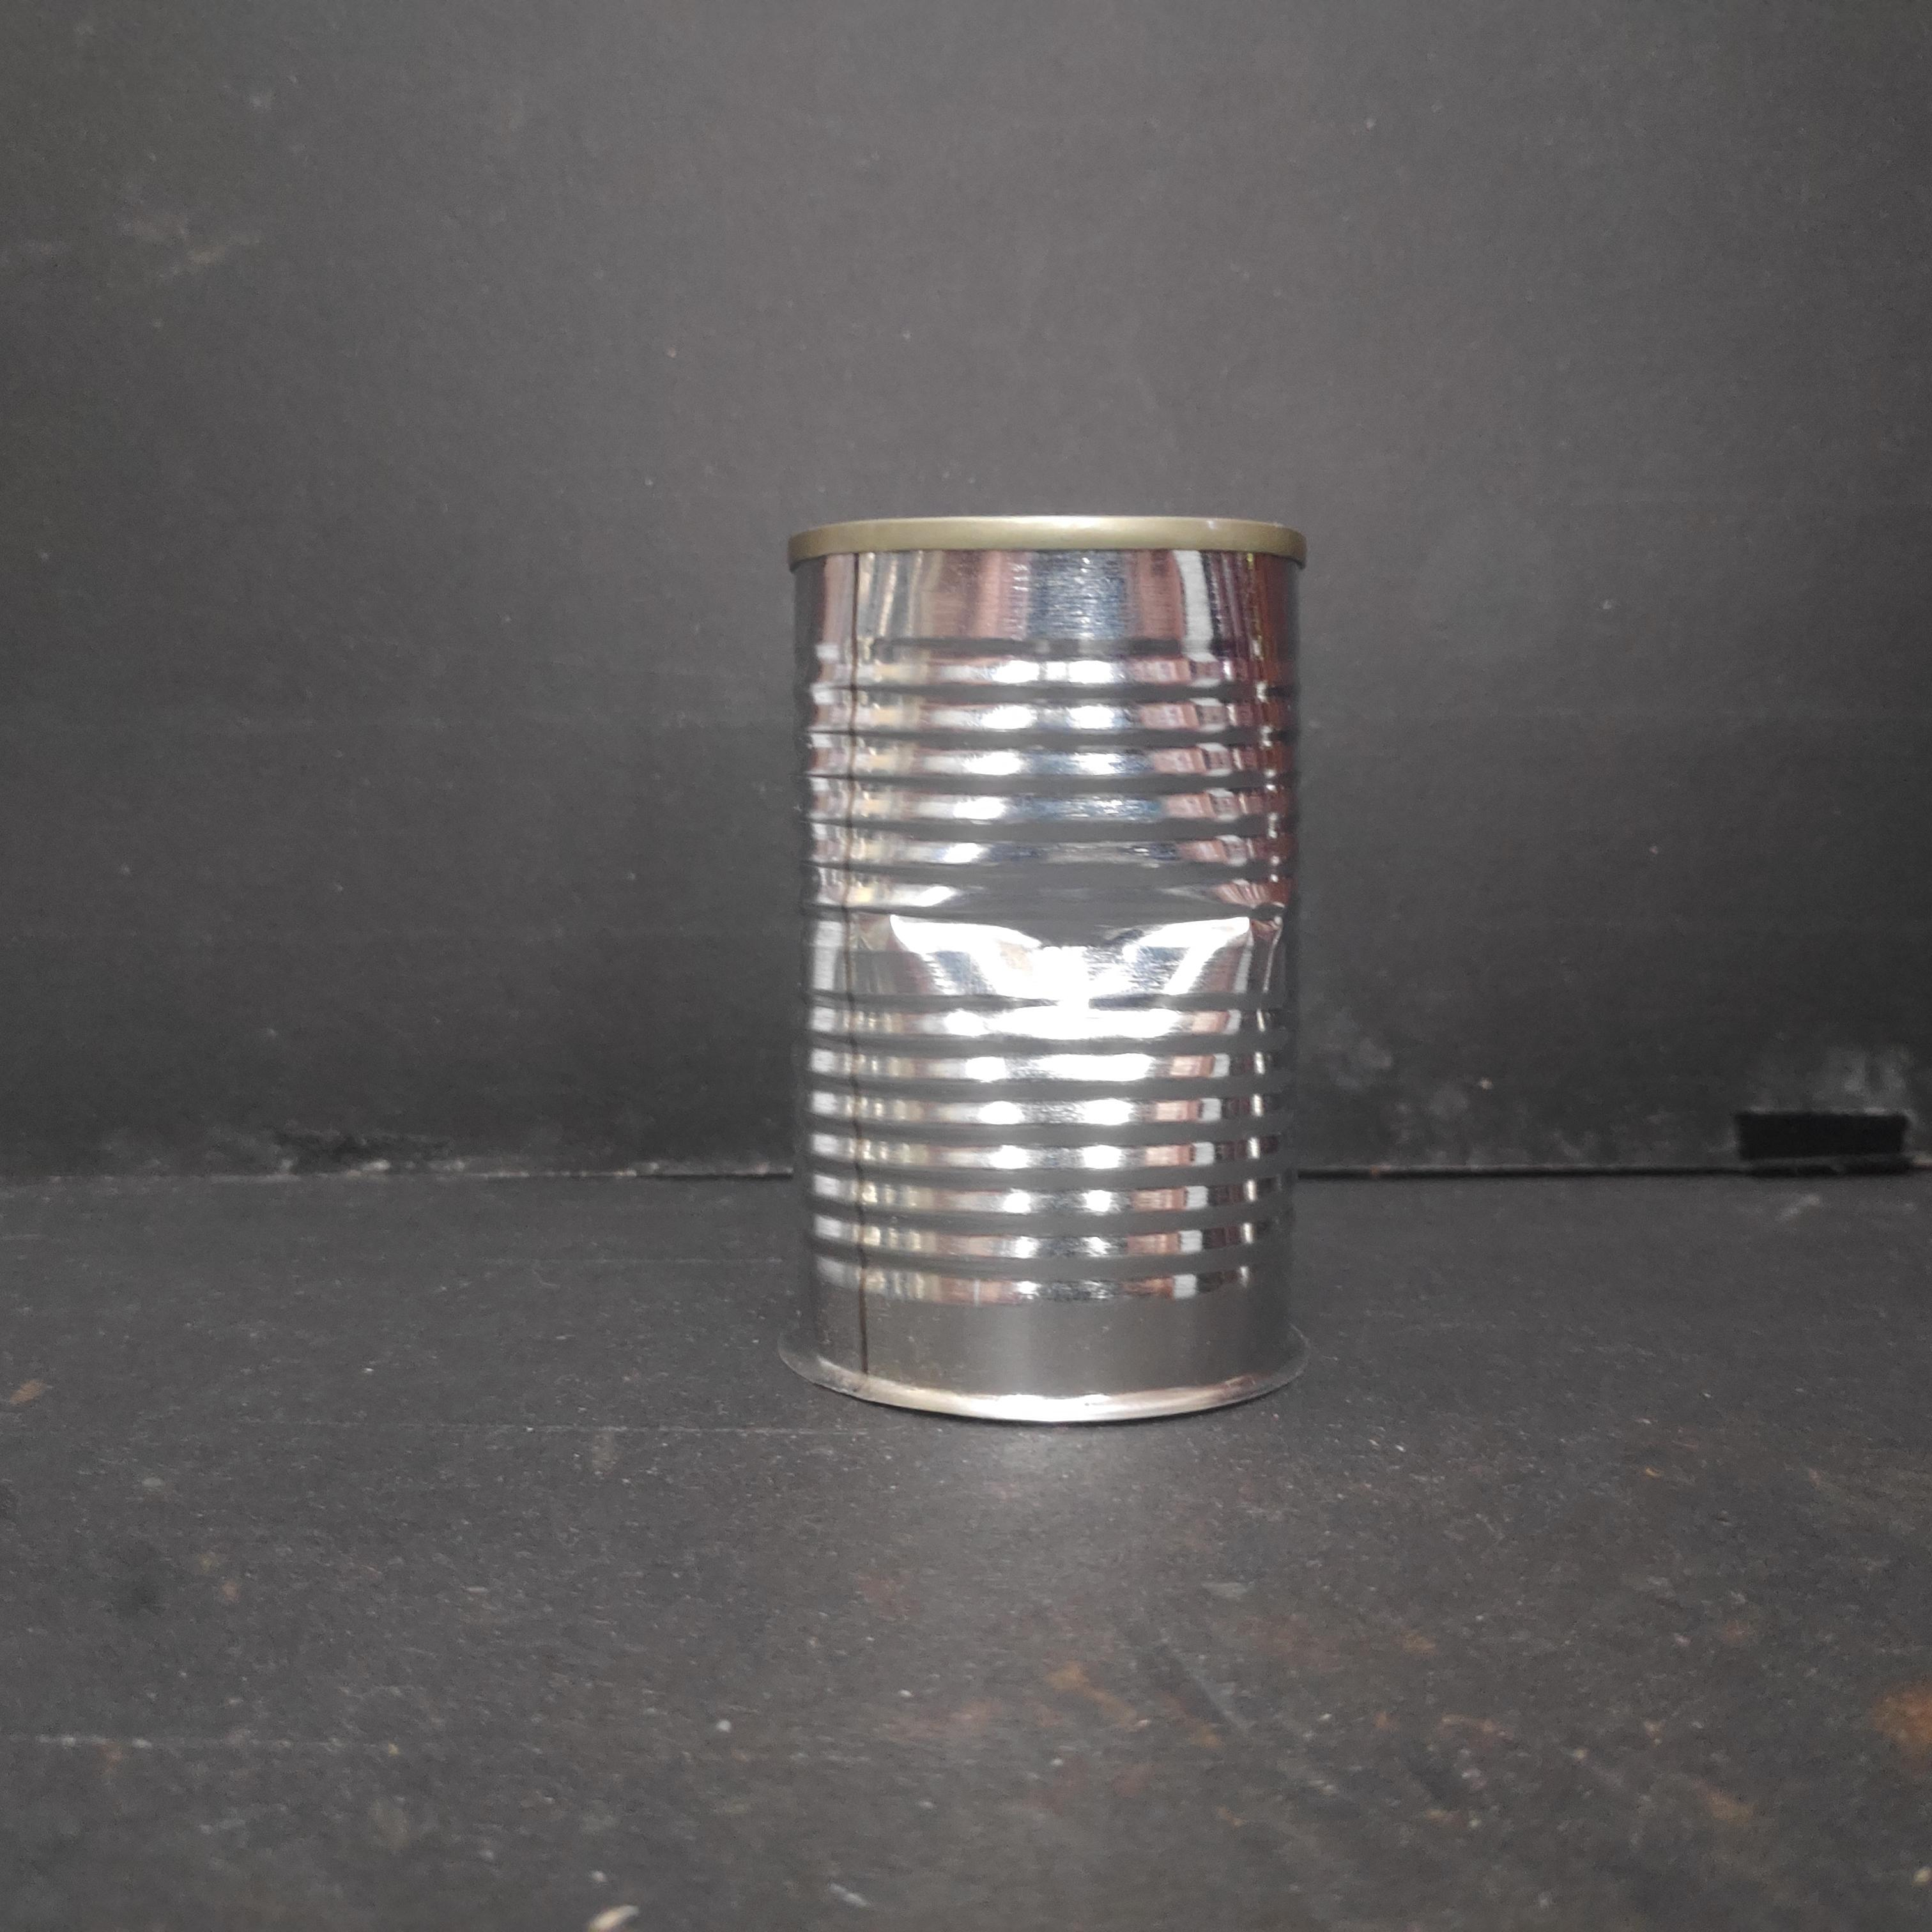Minor Defect: (775, 502, 1318, 1433)
